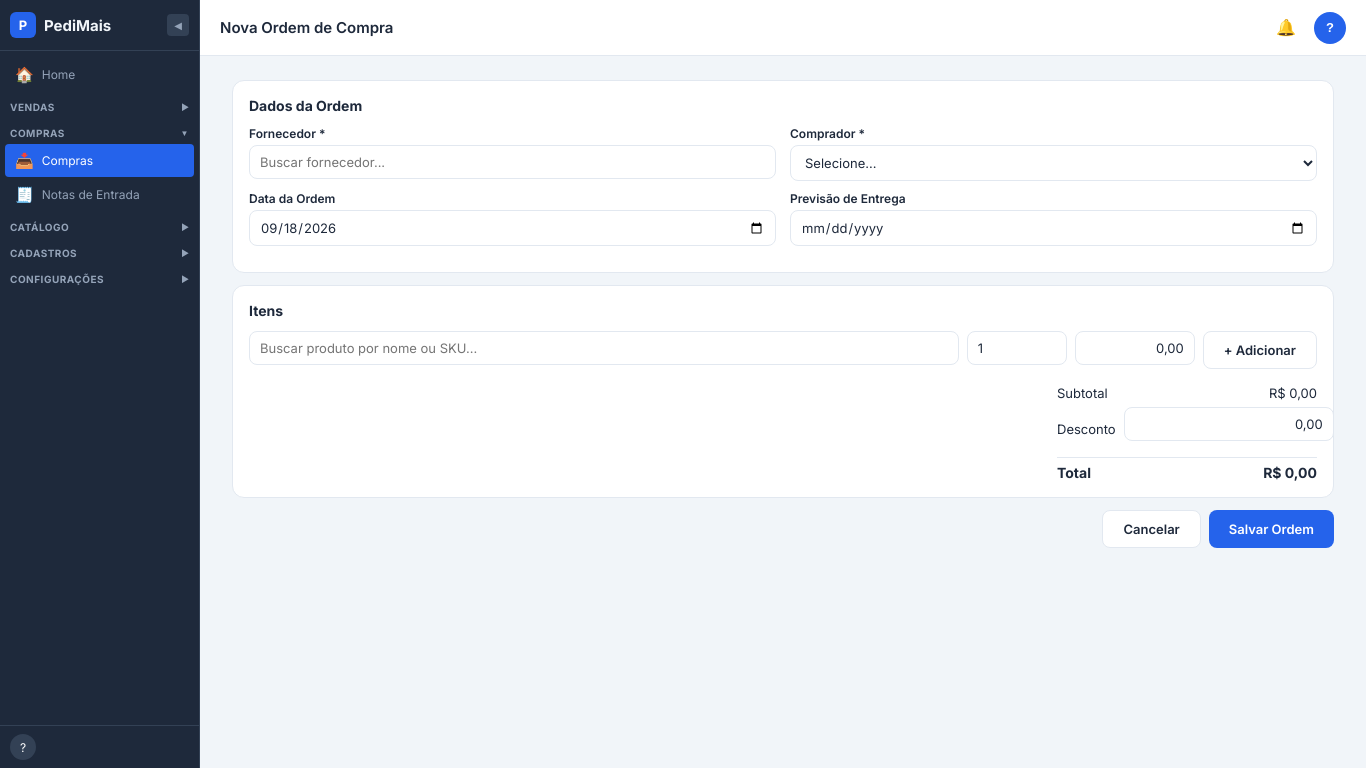
Test case: PurchaseOrderFormView › searches for a produto, adds it as an item and computes totals live
Type "algodão" into the field with test id "produto-busca" at [604, 348], box [249,331,959,365]
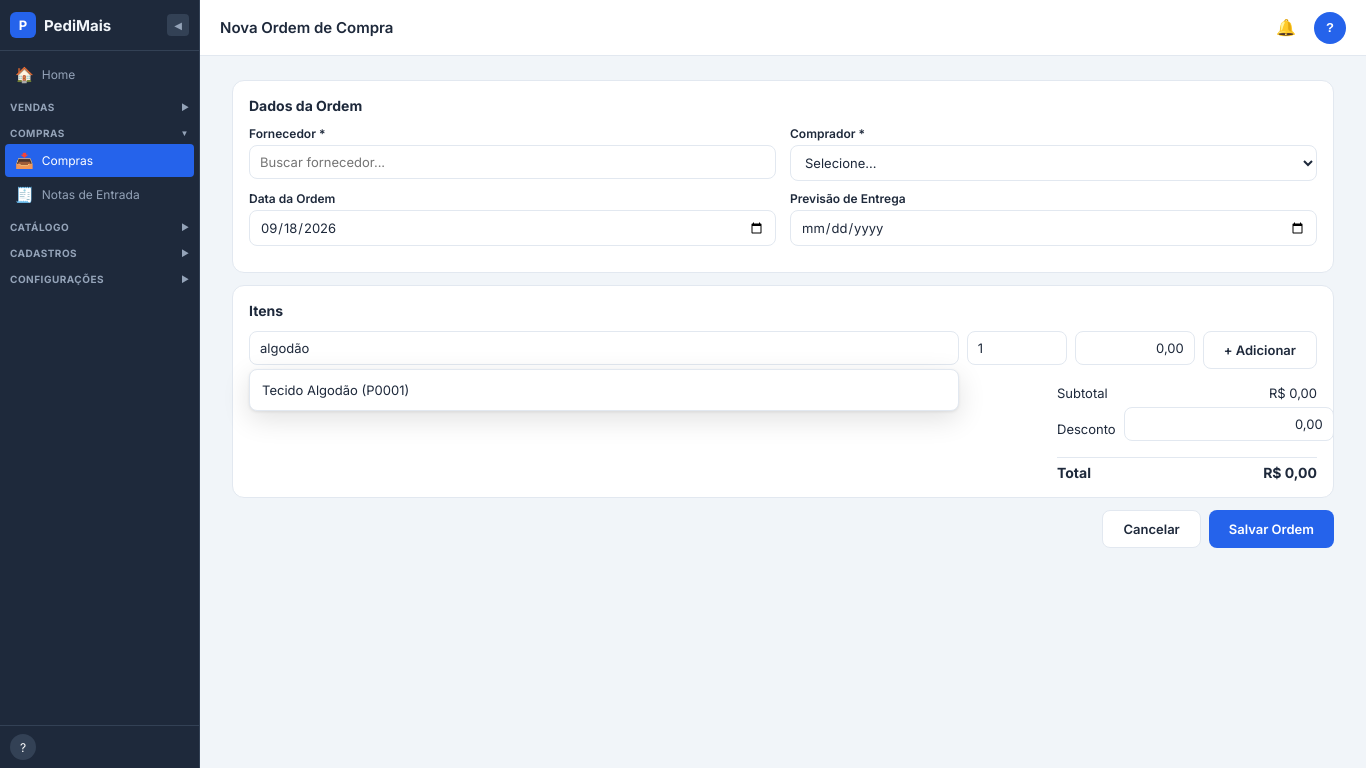
Click the list item "Tecido Algodão (P0001)" at [336, 390], box [262,382,409,398]
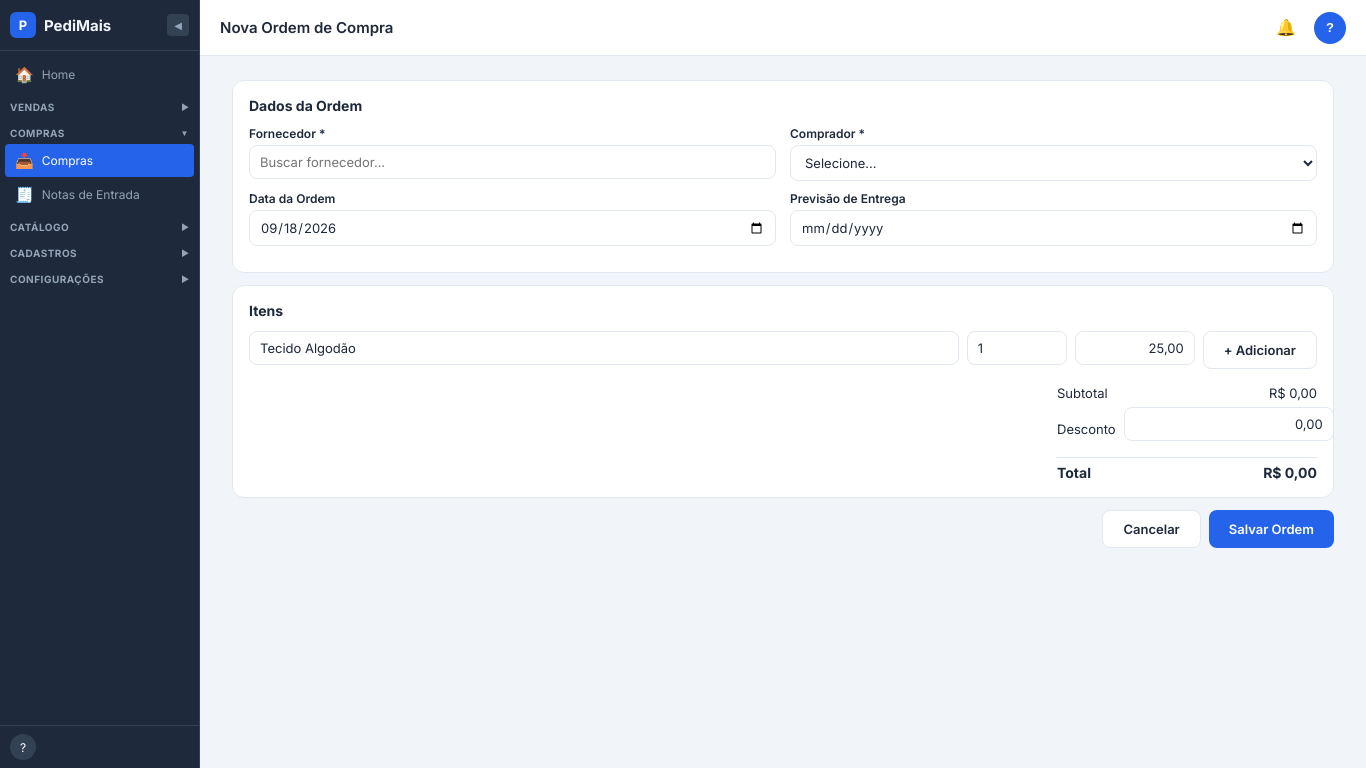
Replace the text in the number field with test id "item-quantidade" with "10" at [1017, 348], box [967,331,1067,365]
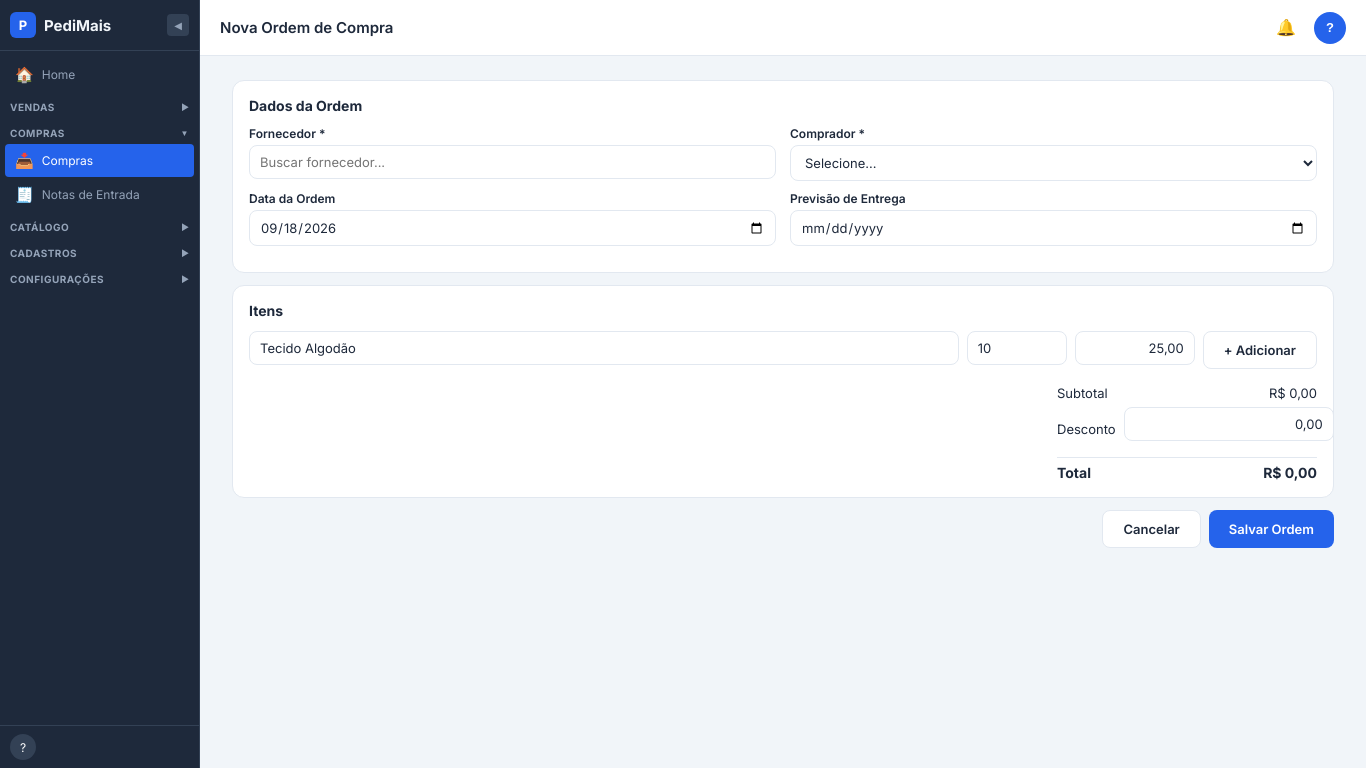
Click the button with test id "item-adicionar" showing "+ Adicionar" at [1260, 350], box [1203,331,1317,369]
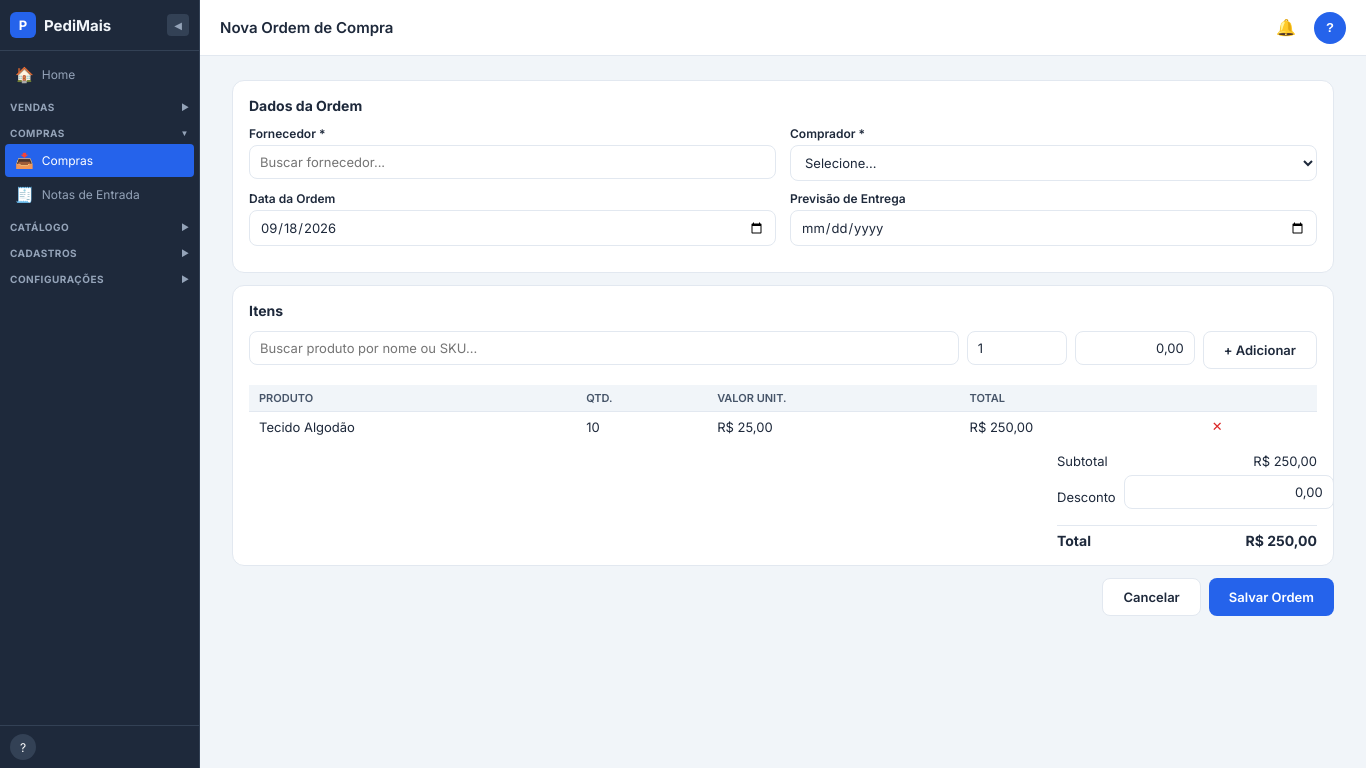
Now the text "Tecido Algodão" is shown, box [249,412,576,441]
Now the text "R$ 250,00" is shown, box [960,412,1196,441]
Click the button with test id "item-remover" at [1217, 426], box [1206,418,1229,435]
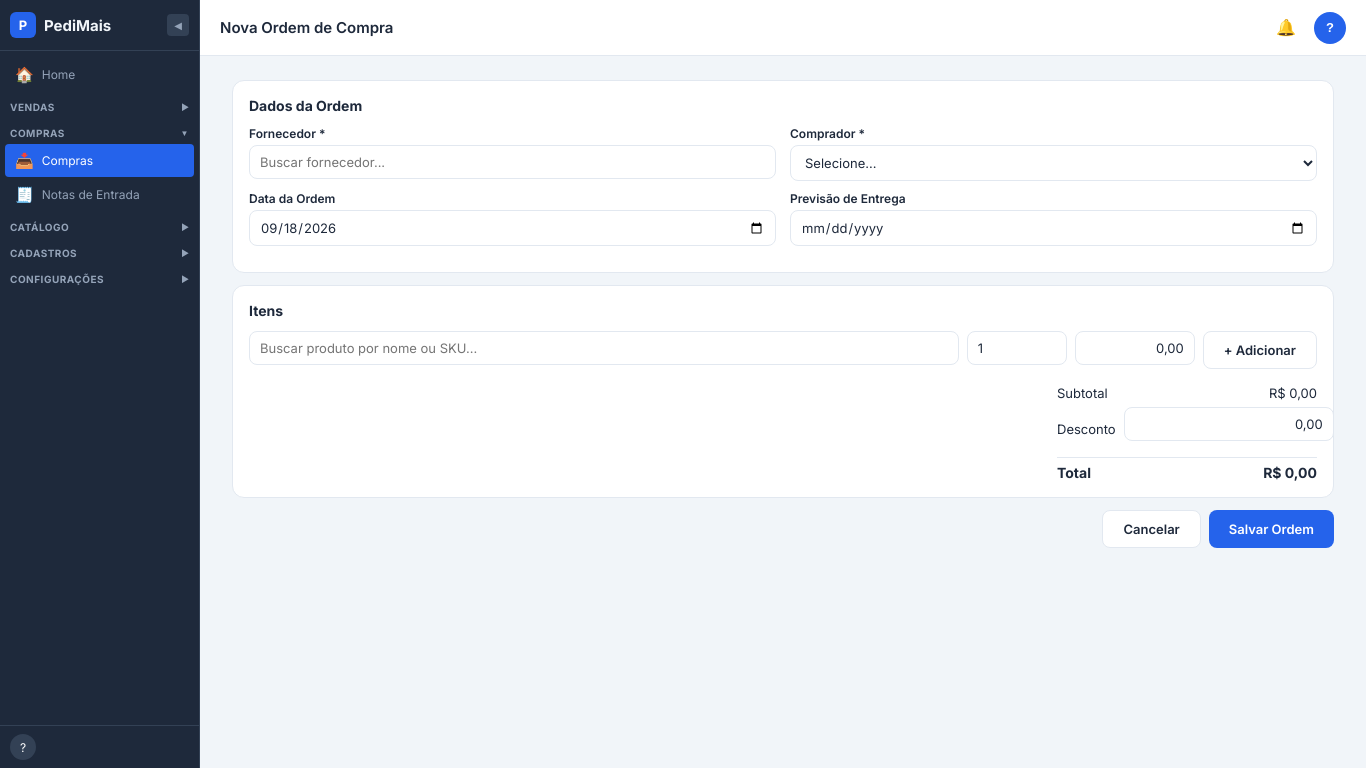
Now the text "Tecido Algodão" is gone
